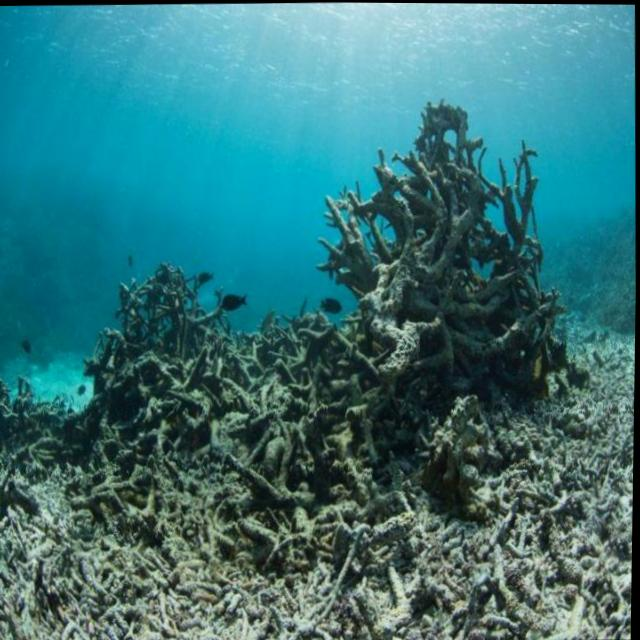Dead Coral: (11, 199, 592, 602)
